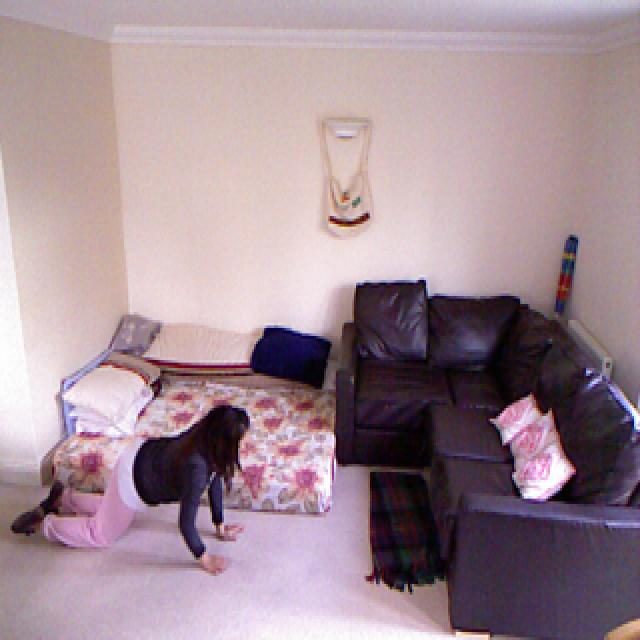crawling: (9, 403, 254, 577)
